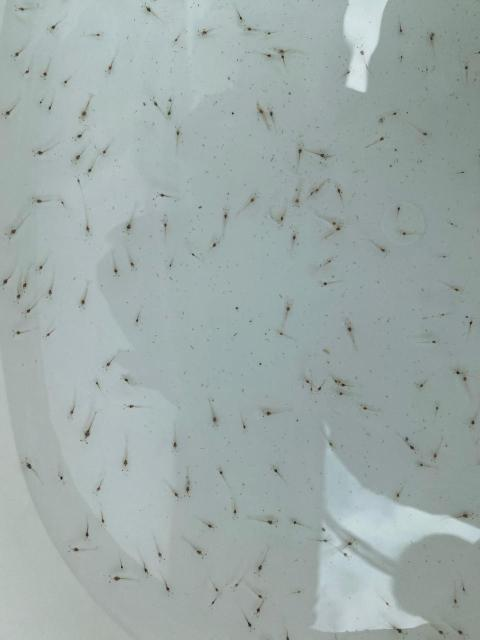benur: (21, 456, 43, 483), (142, 1, 165, 22), (7, 220, 25, 242), (255, 551, 269, 579), (71, 144, 88, 166), (188, 541, 207, 560), (370, 241, 391, 258), (21, 301, 39, 319), (1, 102, 18, 121), (33, 146, 56, 160), (240, 194, 258, 211), (46, 19, 64, 36), (270, 463, 286, 482), (78, 285, 90, 310), (168, 483, 183, 503), (78, 99, 90, 124), (256, 102, 268, 127), (67, 395, 78, 422), (200, 518, 218, 534), (450, 624, 468, 640), (124, 210, 135, 236), (220, 207, 230, 235), (161, 576, 173, 599), (209, 405, 220, 430), (83, 159, 96, 180), (432, 624, 450, 639), (10, 44, 25, 62), (102, 353, 117, 371), (0, 272, 13, 292), (67, 544, 90, 555), (127, 249, 138, 272), (98, 140, 112, 158), (105, 55, 117, 76), (35, 259, 49, 277), (324, 435, 338, 453), (122, 446, 131, 474), (107, 572, 128, 584), (47, 276, 57, 301), (43, 326, 58, 342), (119, 374, 135, 389), (21, 269, 31, 293), (72, 129, 89, 143), (83, 211, 92, 237), (54, 468, 67, 486), (94, 477, 105, 498), (93, 374, 104, 395), (468, 410, 479, 431), (277, 209, 288, 230), (243, 614, 255, 633), (445, 282, 464, 294), (80, 425, 92, 444), (173, 126, 182, 151), (207, 238, 221, 254), (231, 575, 244, 592), (415, 129, 432, 142), (283, 301, 293, 323), (11, 328, 33, 338), (462, 376, 472, 398), (198, 28, 218, 39), (14, 4, 36, 14), (172, 426, 180, 453), (156, 540, 165, 564), (152, 97, 164, 115), (141, 557, 151, 578), (358, 402, 377, 413), (235, 5, 246, 24), (276, 327, 293, 339), (315, 379, 327, 396), (369, 135, 386, 147), (111, 255, 119, 280), (60, 74, 74, 88), (337, 549, 351, 563), (295, 142, 303, 166), (452, 586, 460, 610), (255, 599, 265, 618), (336, 181, 345, 202), (43, 61, 52, 82), (262, 519, 279, 530), (211, 580, 222, 597), (83, 519, 91, 542), (416, 378, 430, 391), (133, 310, 143, 328), (467, 316, 476, 336), (280, 55, 290, 73), (267, 106, 276, 126), (188, 249, 203, 261), (455, 513, 475, 522), (184, 478, 192, 500), (46, 97, 55, 116), (239, 415, 248, 434), (261, 411, 280, 420), (320, 280, 339, 289), (292, 188, 301, 207), (216, 465, 226, 482), (380, 596, 393, 609), (20, 66, 33, 79), (290, 231, 298, 252), (58, 198, 69, 213), (208, 595, 219, 610), (461, 580, 470, 598), (465, 63, 472, 86), (14, 280, 21, 303), (394, 486, 404, 502), (123, 402, 143, 410), (172, 32, 182, 48), (406, 443, 418, 456), (161, 217, 168, 239), (232, 496, 239, 518), (304, 377, 315, 391), (31, 198, 48, 207), (397, 230, 414, 239), (74, 174, 83, 191), (397, 19, 405, 38), (427, 32, 435, 51), (312, 152, 331, 160), (290, 518, 305, 528), (341, 538, 356, 548), (100, 508, 107, 529), (119, 555, 127, 573), (243, 26, 259, 35), (431, 447, 440, 463), (422, 340, 440, 348), (253, 590, 265, 602), (446, 218, 459, 229), (330, 225, 344, 235), (165, 103, 173, 120), (89, 31, 104, 40), (260, 54, 275, 63), (450, 365, 462, 376), (279, 46, 295, 54), (416, 460, 430, 469), (331, 374, 340, 388), (338, 70, 350, 80), (157, 191, 172, 199), (318, 525, 330, 535), (395, 203, 402, 220), (308, 380, 315, 397), (307, 186, 316, 199), (433, 403, 440, 419), (290, 589, 304, 597), (397, 629, 408, 639), (38, 94, 47, 106), (265, 30, 278, 38), (437, 252, 450, 260), (319, 537, 332, 545), (324, 257, 335, 266), (344, 321, 353, 332), (167, 256, 174, 270), (335, 390, 349, 397), (439, 312, 452, 319), (356, 44, 365, 54), (389, 110, 400, 118), (231, 330, 240, 339), (317, 161, 328, 168), (454, 171, 466, 177), (331, 220, 340, 227), (324, 357, 331, 365), (401, 54, 406, 65), (391, 147, 400, 153), (472, 49, 480, 55), (405, 435, 410, 443), (316, 186, 321, 194), (277, 293, 283, 299), (286, 631, 290, 640), (340, 383, 345, 387)
